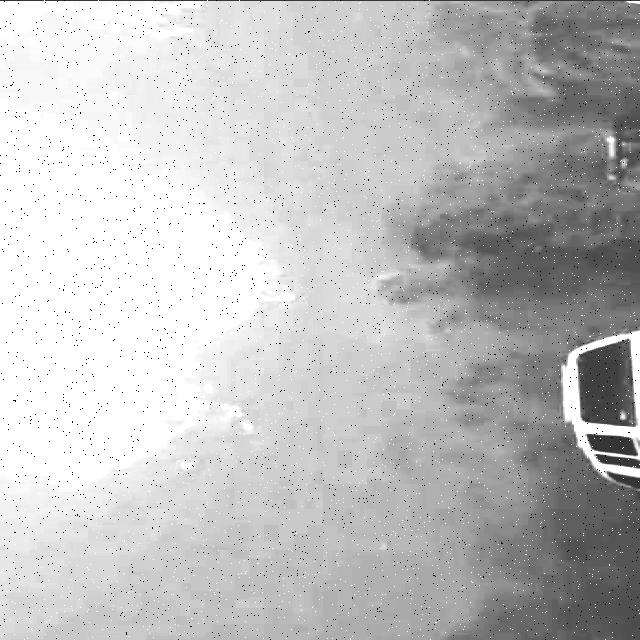api: (1, 191, 303, 484), (117, 1, 215, 51)
